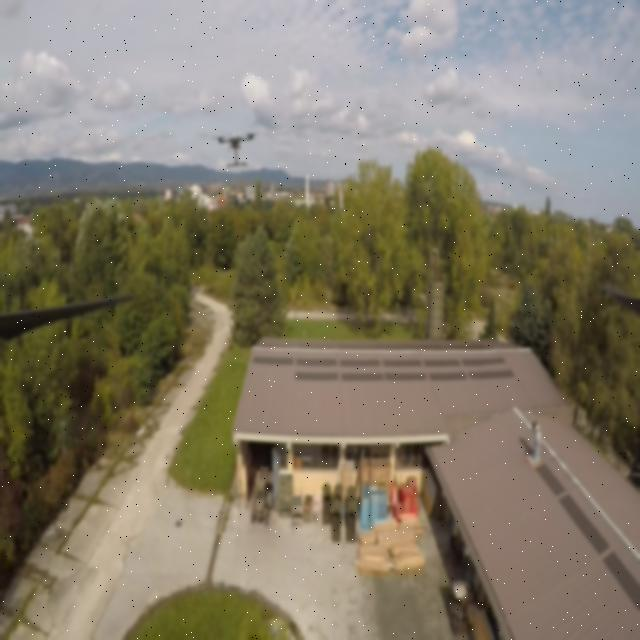UAV: (204, 123, 264, 168)
